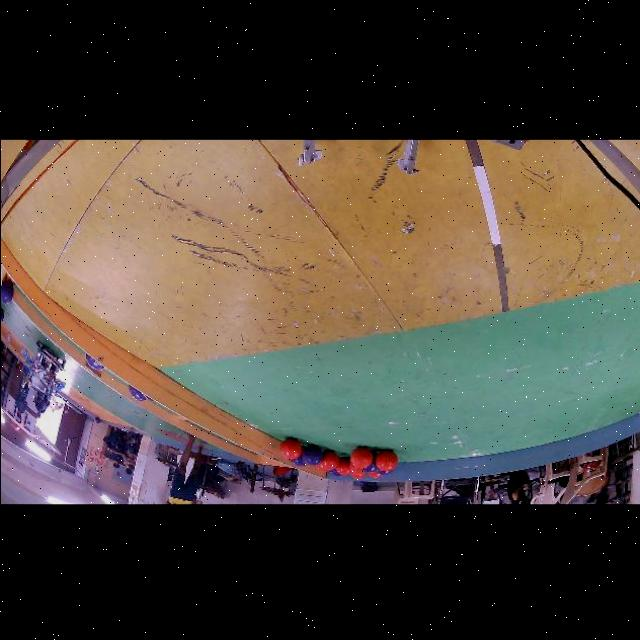P: (302, 444, 322, 464), (0, 278, 13, 303), (85, 353, 104, 369), (128, 385, 146, 401), (361, 458, 376, 472), (290, 454, 305, 465), (375, 468, 389, 474), (329, 468, 339, 475)
R: (279, 436, 302, 459), (350, 445, 372, 468), (375, 449, 396, 470), (319, 449, 338, 469), (334, 456, 350, 474), (348, 462, 365, 474), (314, 465, 328, 472), (350, 472, 365, 478), (367, 471, 380, 477)
